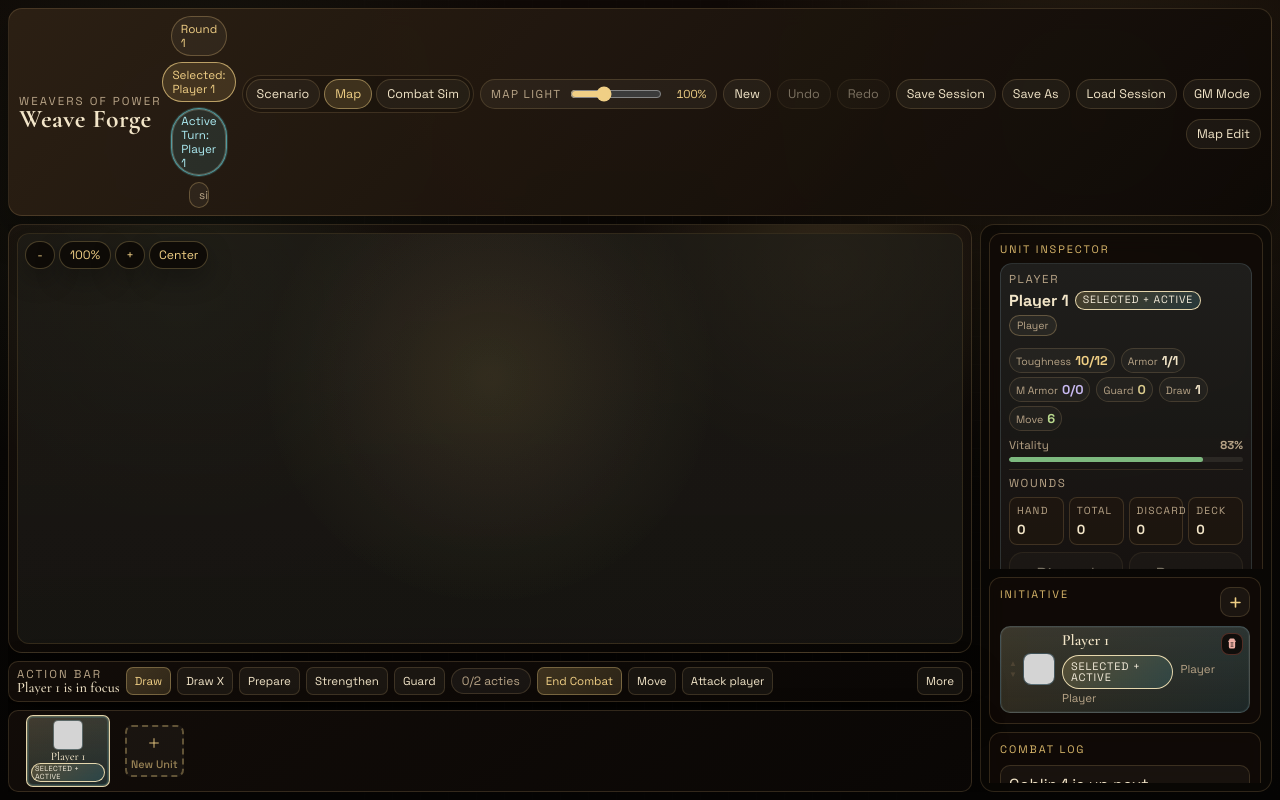
Test case: App › turn button ends combat when no living enemies remain
Click the button "End Combat" at (579, 681), box [537,667,622,695]
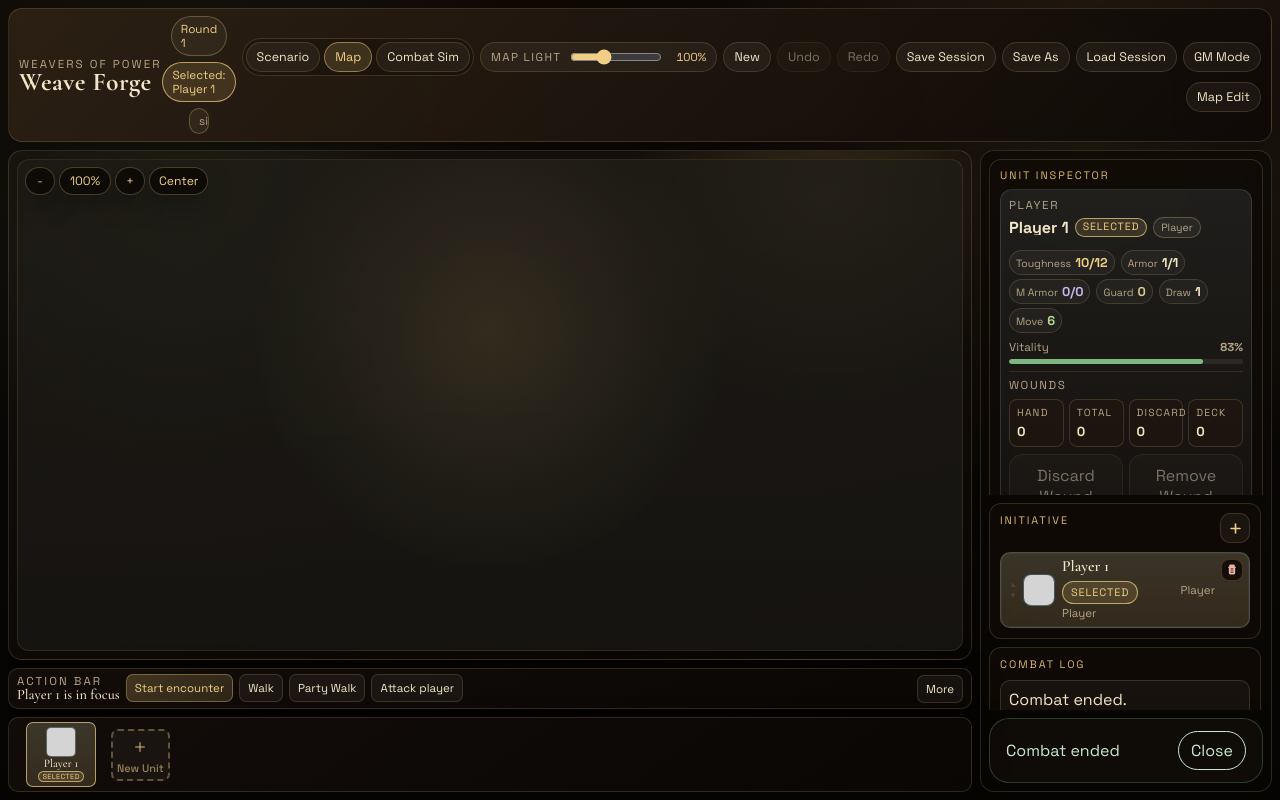
Check: the text "Combat ended." is shown, box [1000,680,1250,710]
Check: the button "Start encounter" is shown, box [126,674,233,702]
